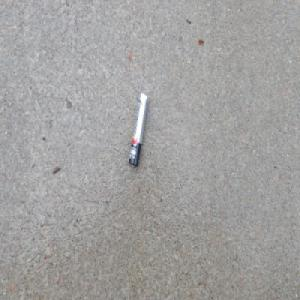Battery: (127, 90, 149, 168)
